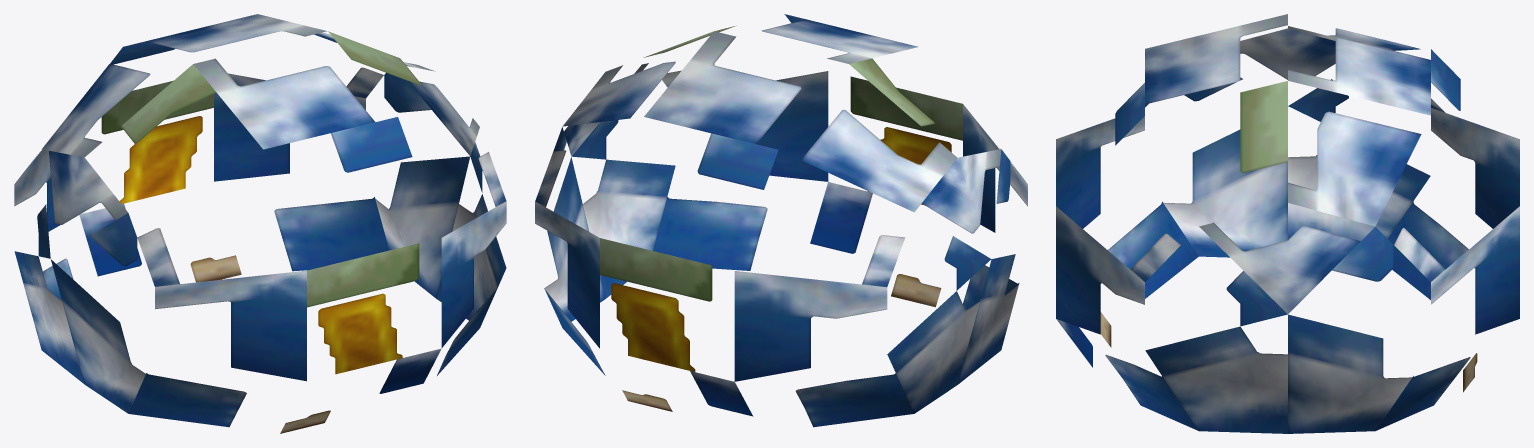
3 renders of one model, left to right at view 1: azimuth 30°, elevation 25°; view 2: azimuth 150°, elevation 25°; view 3: azimuth 270°, elevation 25°, orthographic.
Visible parts, largest first — view 1: T1L2M003_9; view 2: T1L2M003_9; view 3: T1L2M003_9.
Boxes of the visible parts, x1,y1,x2,y2 form: T1L2M003_9: (14, 14, 506, 433); T1L2M003_9: (535, 14, 1027, 427); T1L2M003_9: (1056, 14, 1519, 433).
Bounding box in the file's own units: 0.3135 × 0.2256 × 0.2949.
